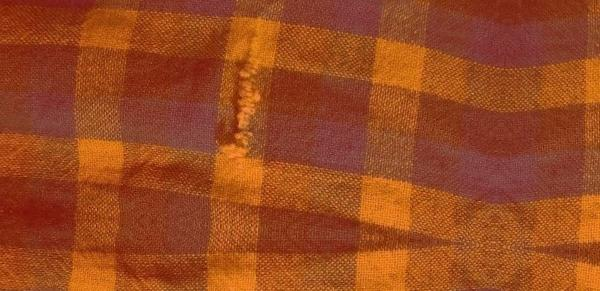knot: (215, 58, 264, 162)
